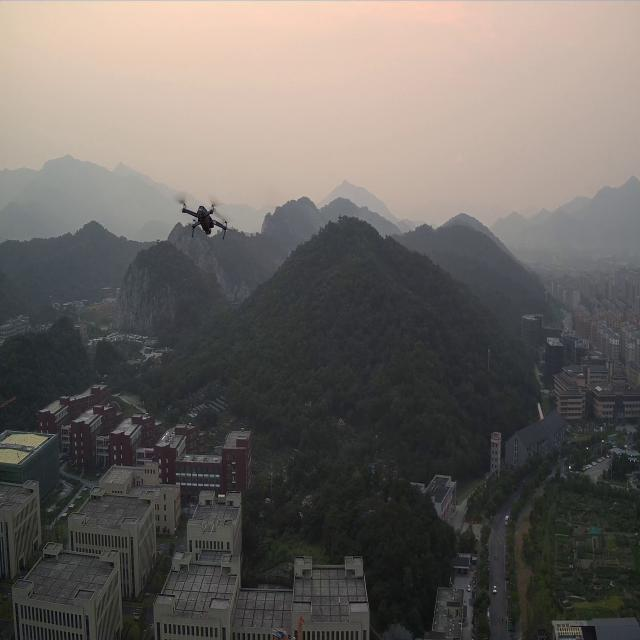UAV: (181, 201, 227, 240)
